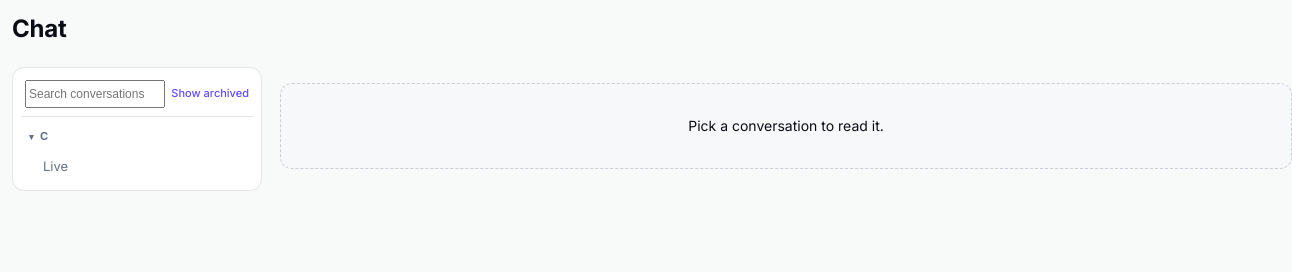
it: ChatPage — finding things (Edward, 31 Aug) › hides archived work until asked, then shows it in its own group
The image size is (1292, 272).
Click the button with test id "chat-archived-toggle". click: [210, 94]
box: [171,87,249,100]
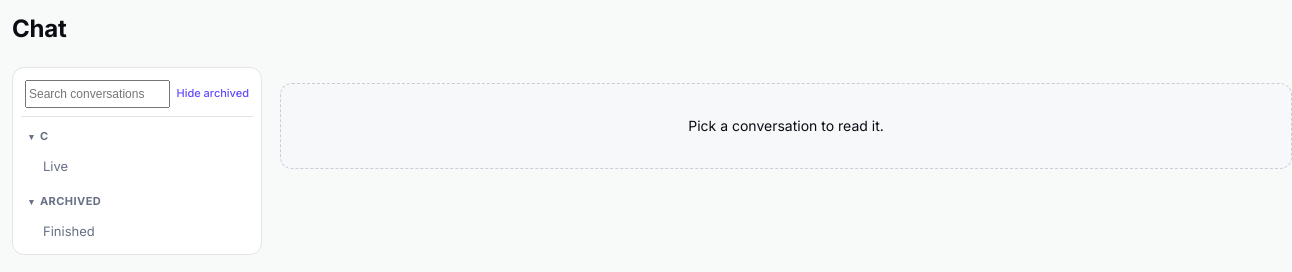
Check: the element with test id "chat-group-archived" is shown, box [21,188,253,246]
Check: the button with test id "chat-rail-old" is shown, box [21,216,253,246]
